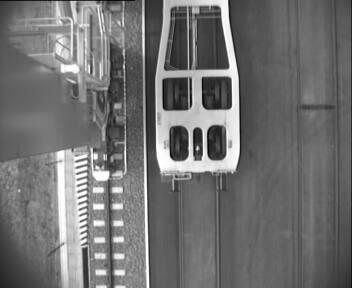twist_lock_2: (166, 123, 230, 164)
